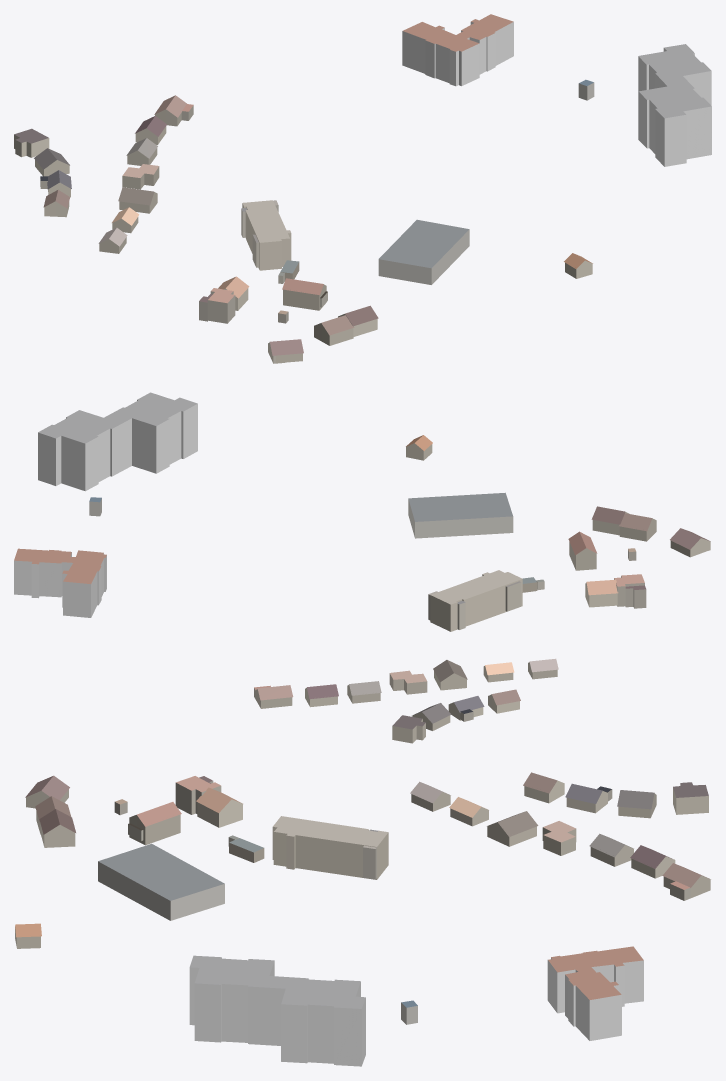
3 views of the same model, one above another, from view 1: azimuth 30°, elevation 25°; view 2: azimuth 150°, elevation 25°; view 3: azimuth 270°, elevation 25° (orthographic). The views are drawn at different scales.
Visible parts, largest first — view 1: tuile; view 2: tuile; view 3: tuile.
Boxes of the visible parts, x1,y1,x2,y2 form: tuile: (14,14,711,363); tuile: (14,392,710,743); tuile: (15,772,710,1066).
Size of the model in its own units: 274 by 42.63 by 246.
